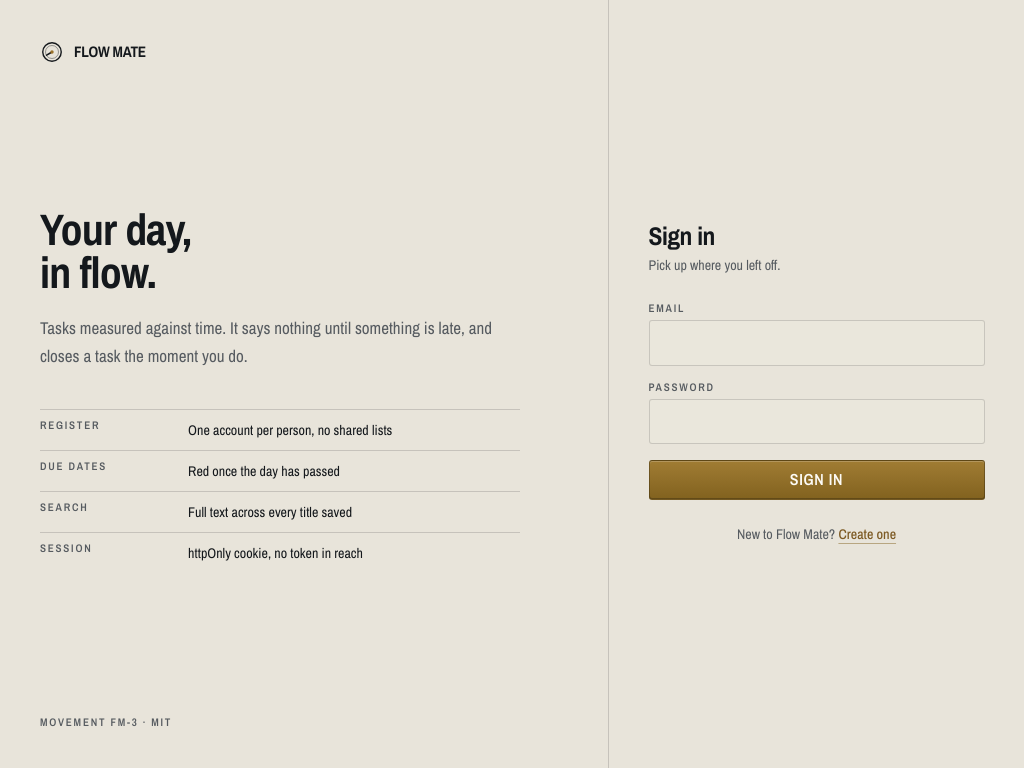
it: AuthPage: login › shows the generic bad-credentials message
Type "vinny@example.com" into the field labelled "Email" at x=816, y=343, box x1=648 y1=320 x2=984 y2=366
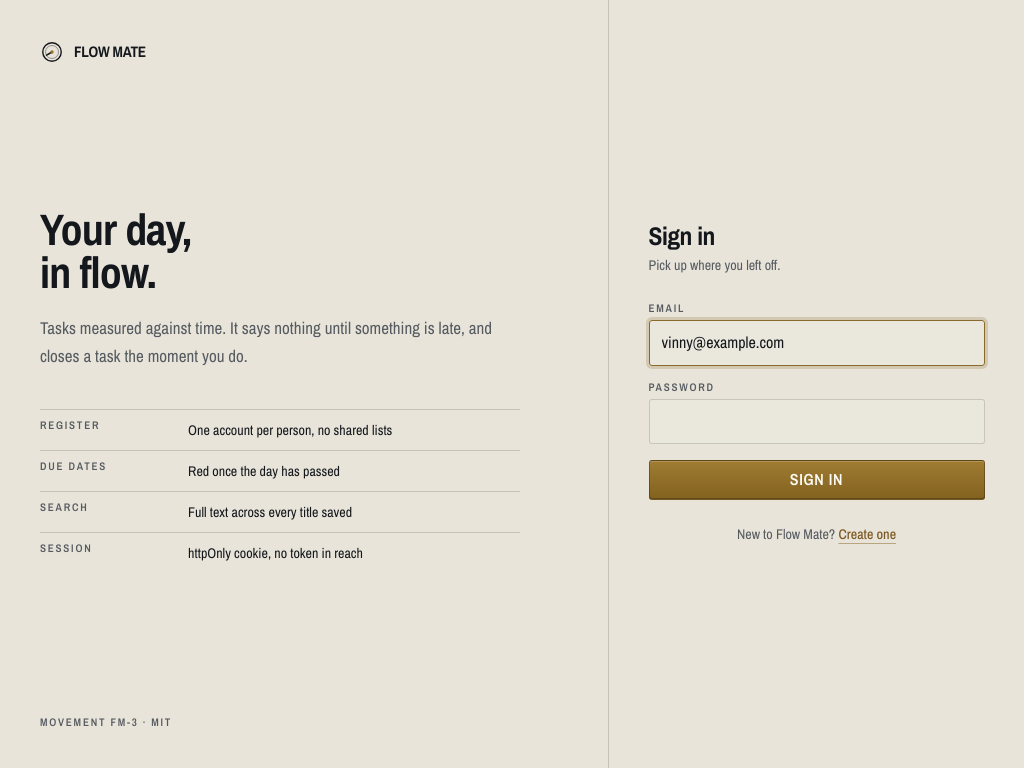
Type "wrong-password" into the password field labelled "Password" at x=816, y=421, box x1=648 y1=398 x2=984 y2=444
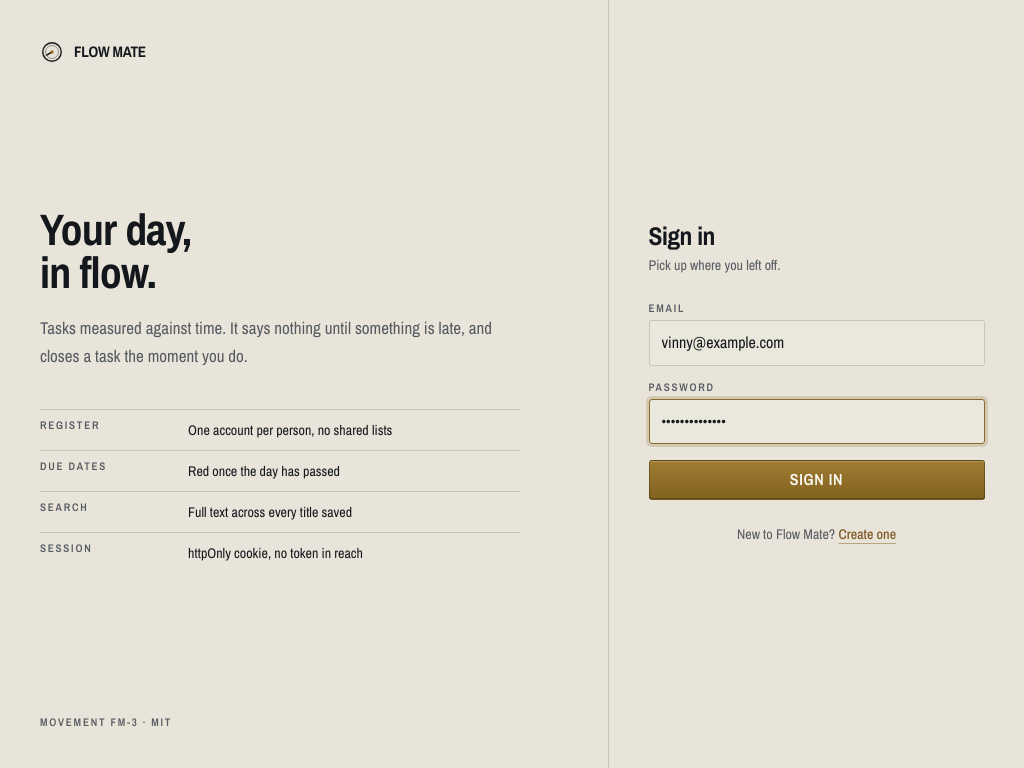
Click the button "Sign in" at x=816, y=480, box x1=648 y1=460 x2=984 y2=500
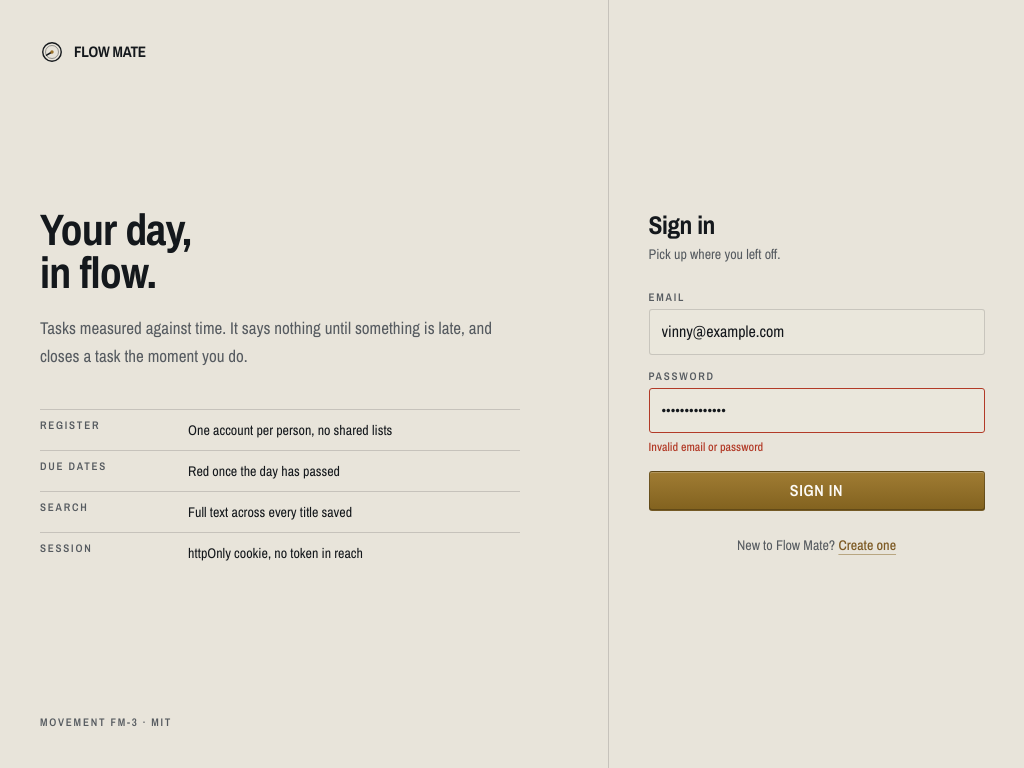
Expected: the text "Invalid email or password" is shown, x1=648 y1=439 x2=763 y2=455
